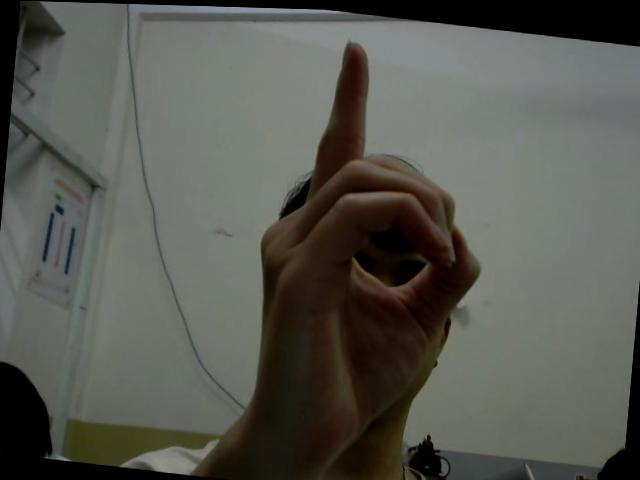D: (240, 28, 500, 457)
